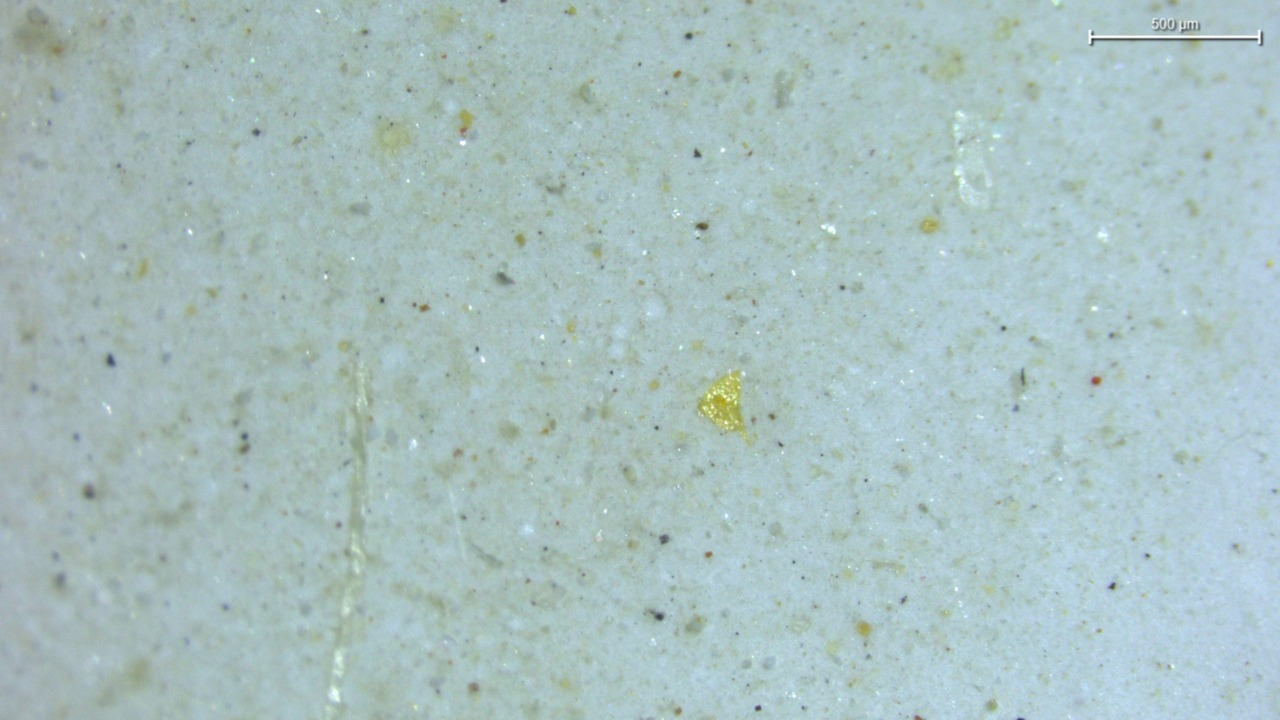microplastic_fragment: (697, 370, 748, 442)
